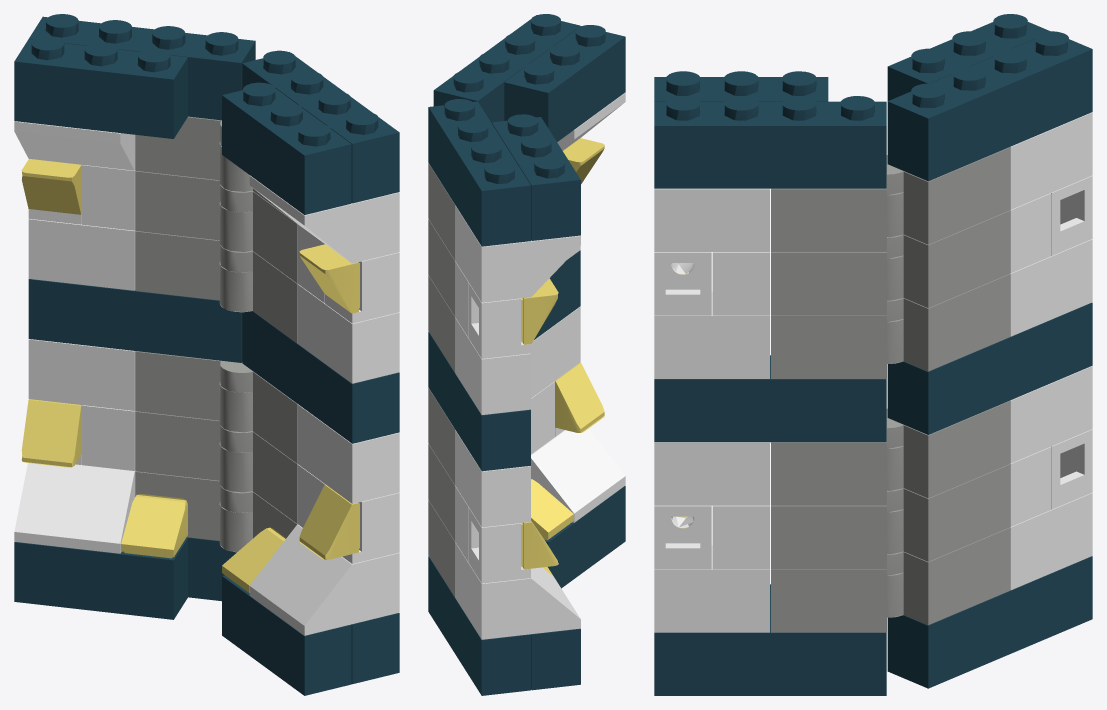
File: wallhinge.fbx
3 views of the same model, side by side, from view 1: azimuth 30°, elevation 25°; view 2: azimuth 150°, elevation 25°; view 3: azimuth 270°, elevation 25° (orthographic). The views are drawn at different scales.
Visible parts, largest first — view 1: wallhinge; view 2: wallhinge; view 3: wallhinge.
Part boxes in pixels (x1,y1,x2,y2): wallhinge: (14,14,399,695); wallhinge: (428,14,625,695); wallhinge: (654,14,1092,695).
Size of the model in its own units: 362 by 879 by 602.
